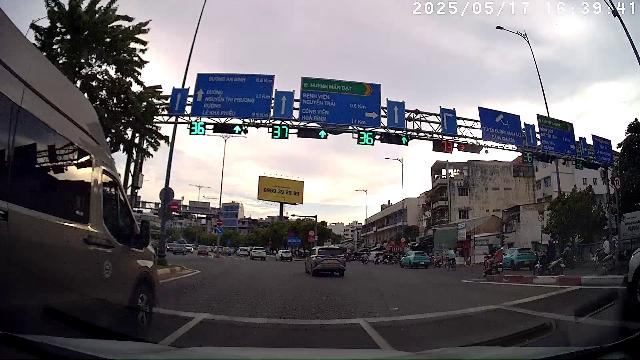124a-cam-quay-dau-xe: (613, 176, 622, 191)
